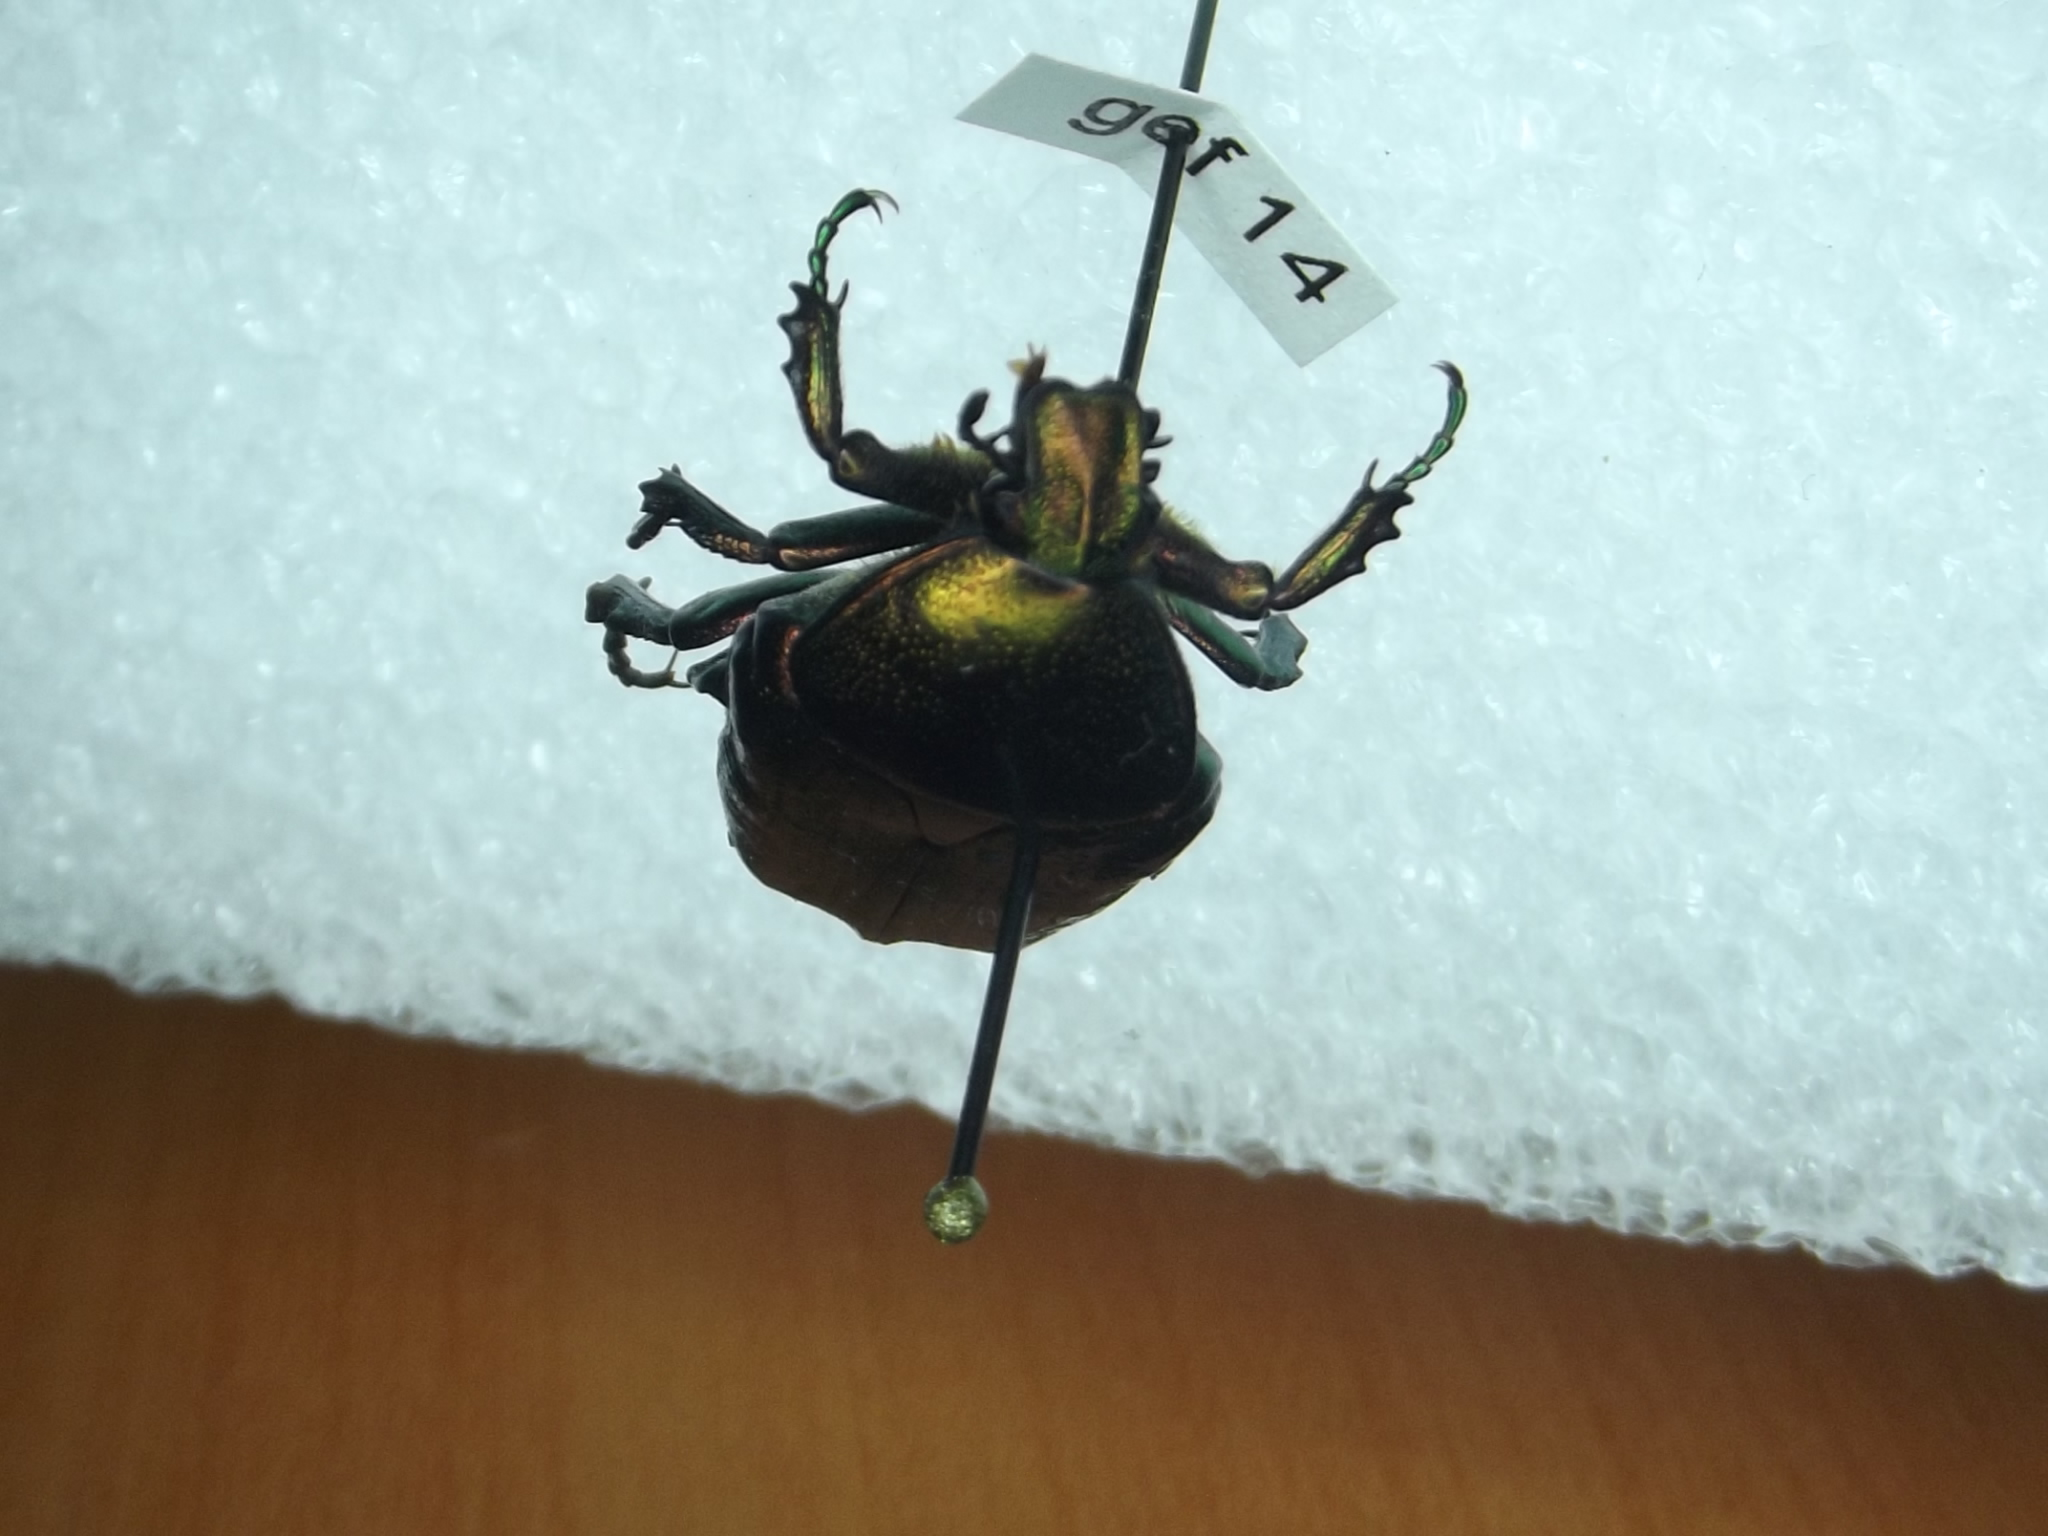Cetonia_aurata: (531, 132, 1476, 1007), (1493, 1160, 1542, 1183)
